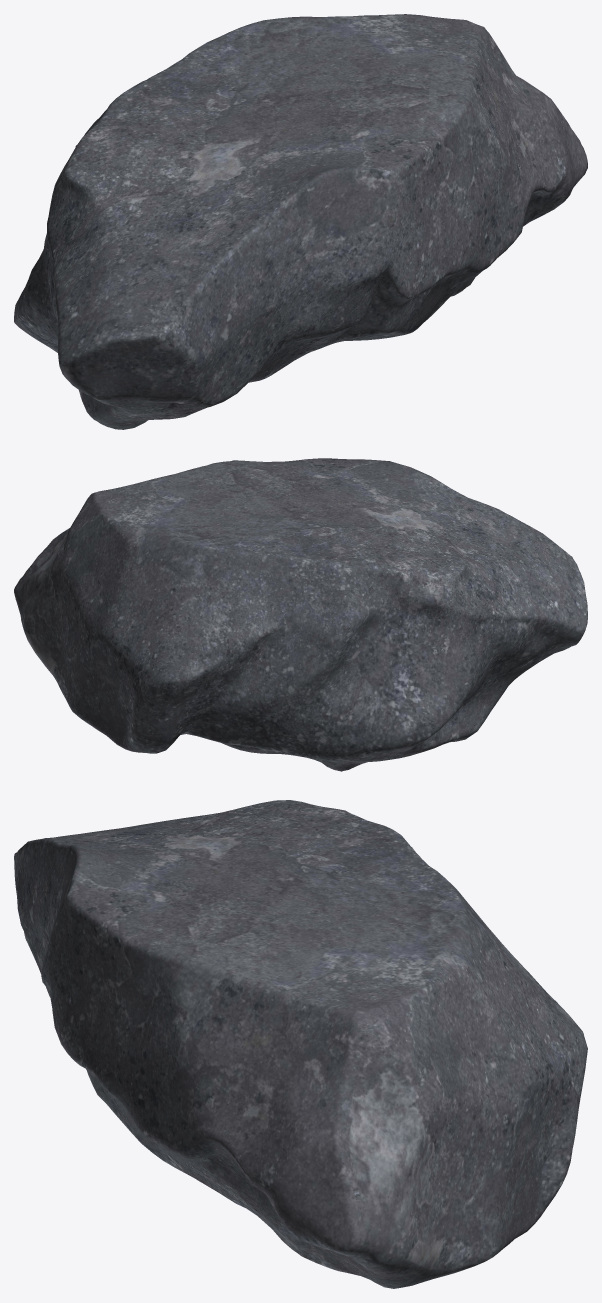
The model's file is rock_6.glb.
3 views of the same model, one above another, from view 1: azimuth 30°, elevation 25°; view 2: azimuth 150°, elevation 25°; view 3: azimuth 270°, elevation 25° (orthographic). The views are drawn at different scales.
Parts seen in each view (by area): view 1: R6_MD; view 2: R6_MD; view 3: R6_MD.
Part boxes in pixels (bbox=[...]): R6_MD: bbox=[14, 14, 587, 429]; R6_MD: bbox=[14, 458, 587, 771]; R6_MD: bbox=[14, 800, 587, 1288].
Bounding box in the file's own units: 0.4778 × 0.2083 × 0.338.
Materials: 1 (1 with a texture image).
